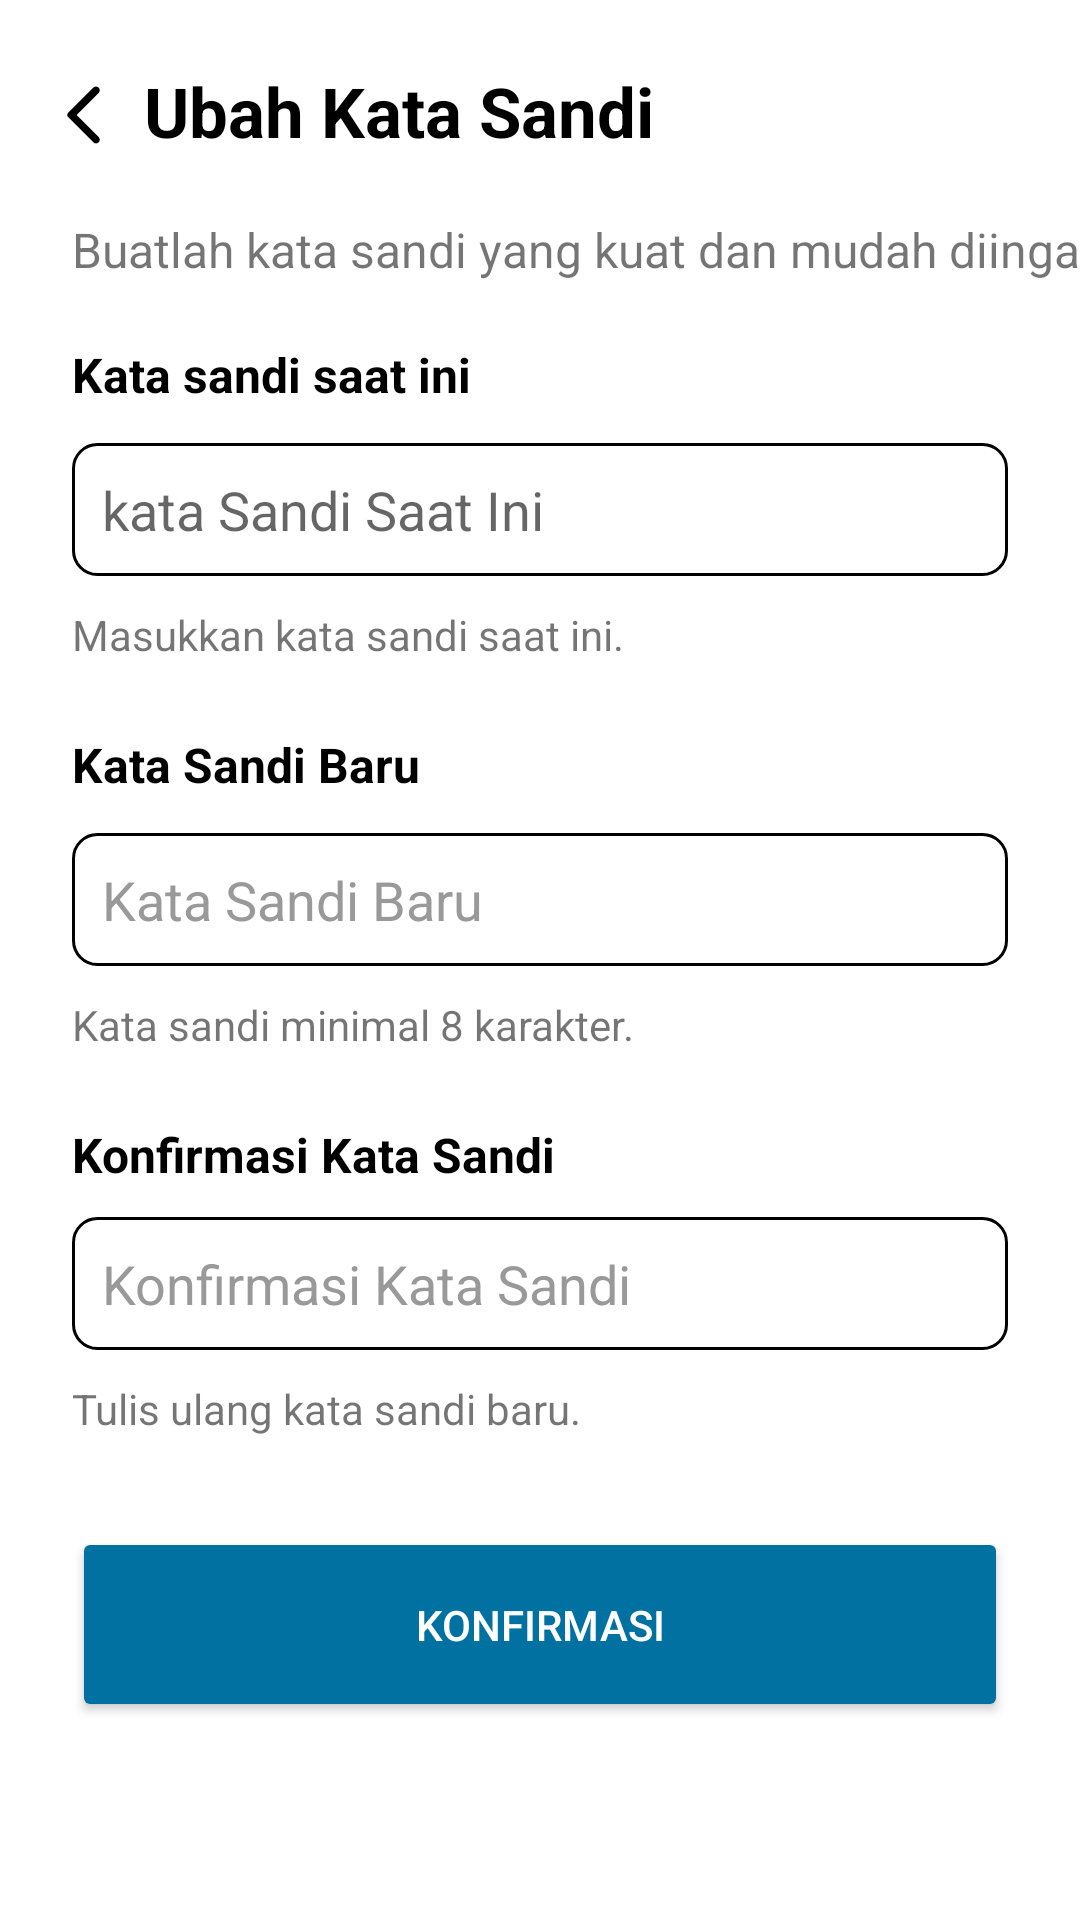

Screen size 1080 × 1920. Icon name, then its box in pixels as region(x1, y1, x2, y2):
Back: region(67, 86, 100, 144)
